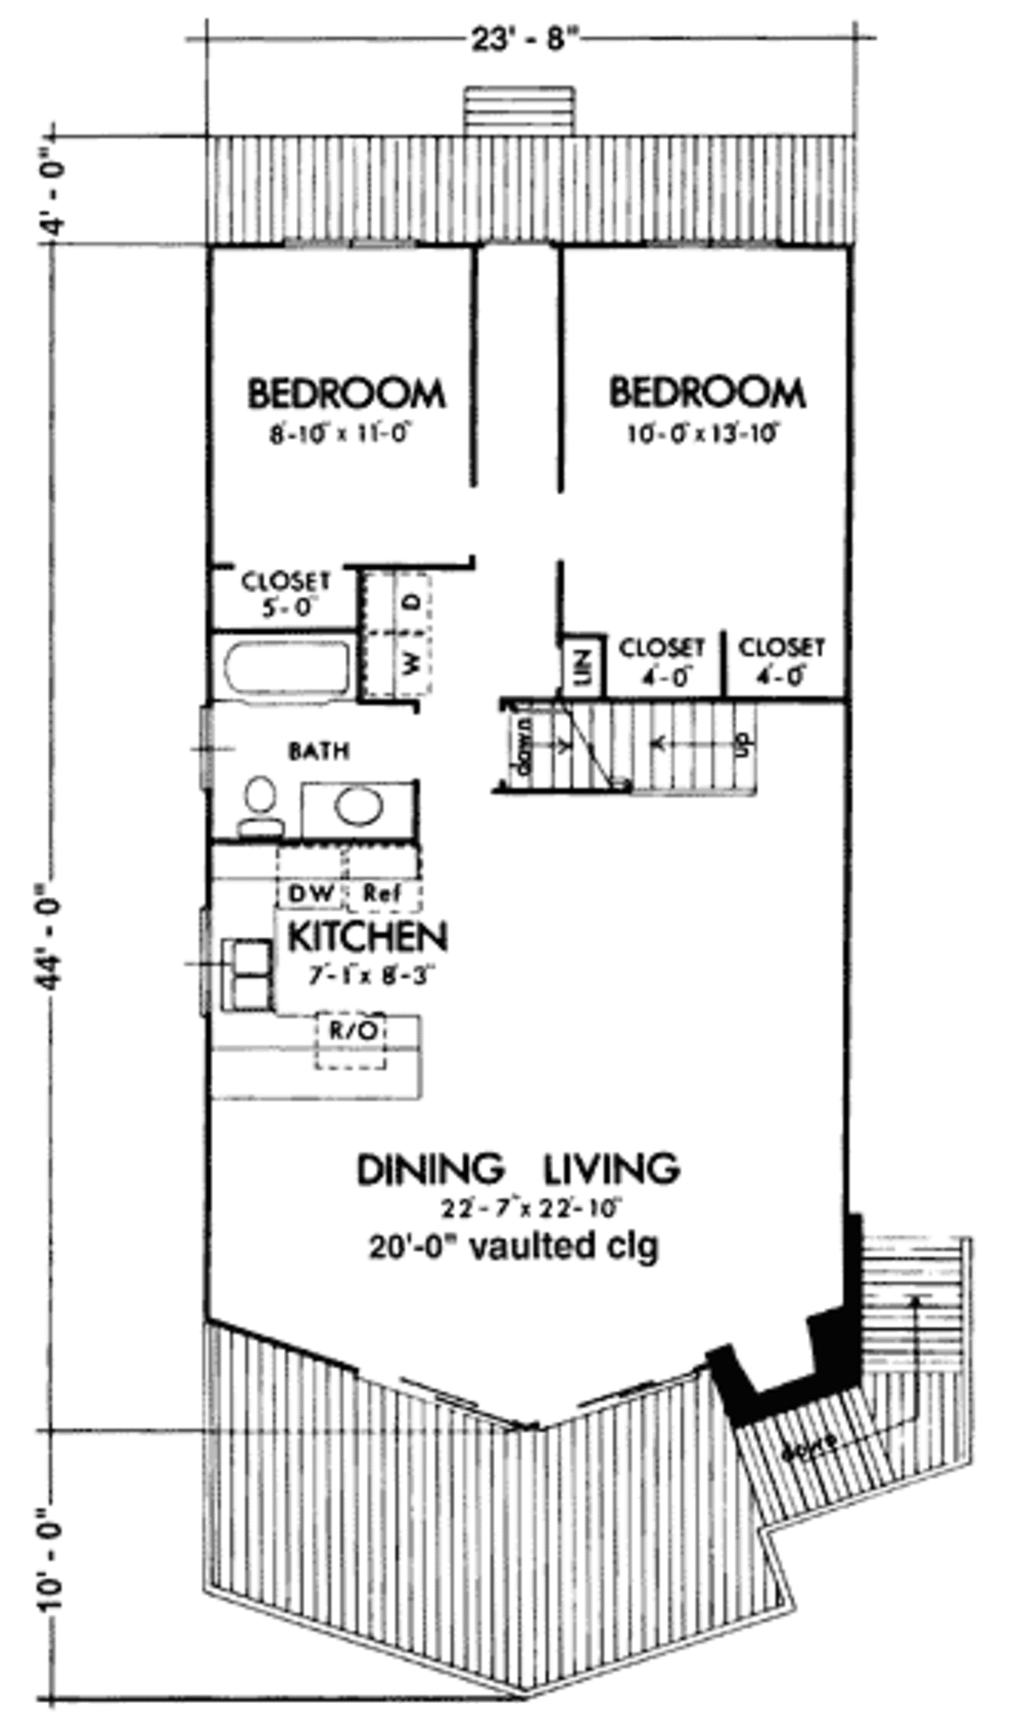large_sink: (224, 756, 290, 837)
small_sink: (295, 784, 425, 837)
stairs: (703, 1192, 984, 1537), (492, 695, 790, 824)
tub: (226, 626, 354, 717)
twin_sink: (213, 913, 279, 1035)
